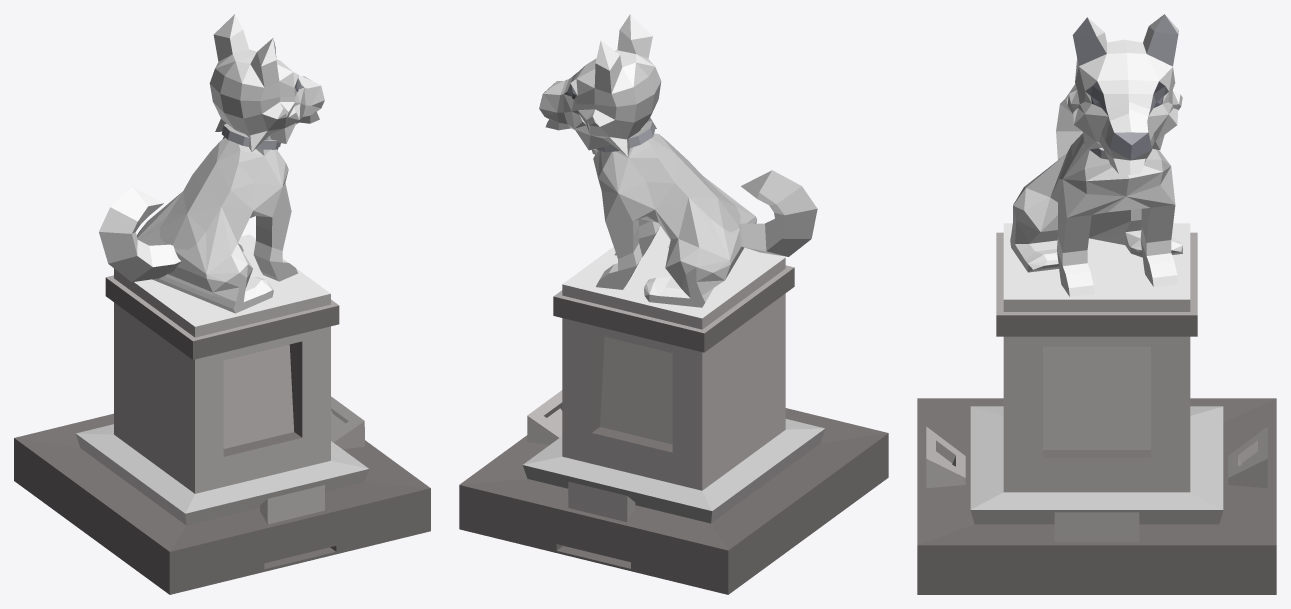
The model's file is Puzzle06_Muna.glb.
3 renders of one model, left to right at view 1: azimuth 30°, elevation 25°; view 2: azimuth 150°, elevation 25°; view 3: azimuth 270°, elevation 25°, orthographic. The views are drawn at different scales.
Parts seen in each view (by area): view 1: Puzzle06_MunaAtril; view 2: Puzzle06_MunaAtril; view 3: Puzzle06_MunaAtril.
Part boxes in pixels (x1,y1,x2,y2): Puzzle06_MunaAtril: [14, 14, 430, 594]; Puzzle06_MunaAtril: [459, 14, 888, 594]; Puzzle06_MunaAtril: [917, 14, 1276, 594].
Size of what is drawn, in the model's own units: 1.72 by 2.89 by 1.77.
Materials: 1 (1 with a texture image).
